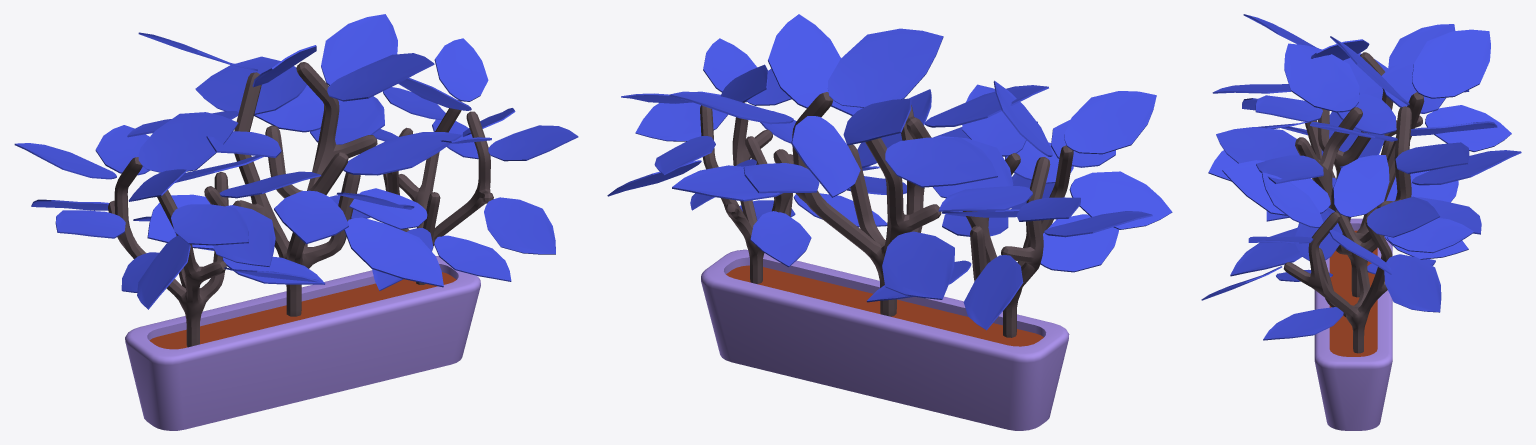
Rendered from Wide_Plant_Pot.fbx.
The picture shows the model from 3 angles, left to right: view 1: azimuth 30°, elevation 25°; view 2: azimuth 150°, elevation 25°; view 3: azimuth 270°, elevation 25°; orthographic projection. The views are drawn at different scales.
Visible parts, largest first — view 1: Wide Plant Pot; view 2: Wide Plant Pot; view 3: Wide Plant Pot.
Part boxes in pixels (left/top/right/bottom): Wide Plant Pot: left=14, top=14, right=578, bottom=430; Wide Plant Pot: left=607, top=14, right=1172, bottom=430; Wide Plant Pot: left=1201, top=14, right=1521, bottom=430.
Bounding box in the file's own units: 185 × 128 × 120.
